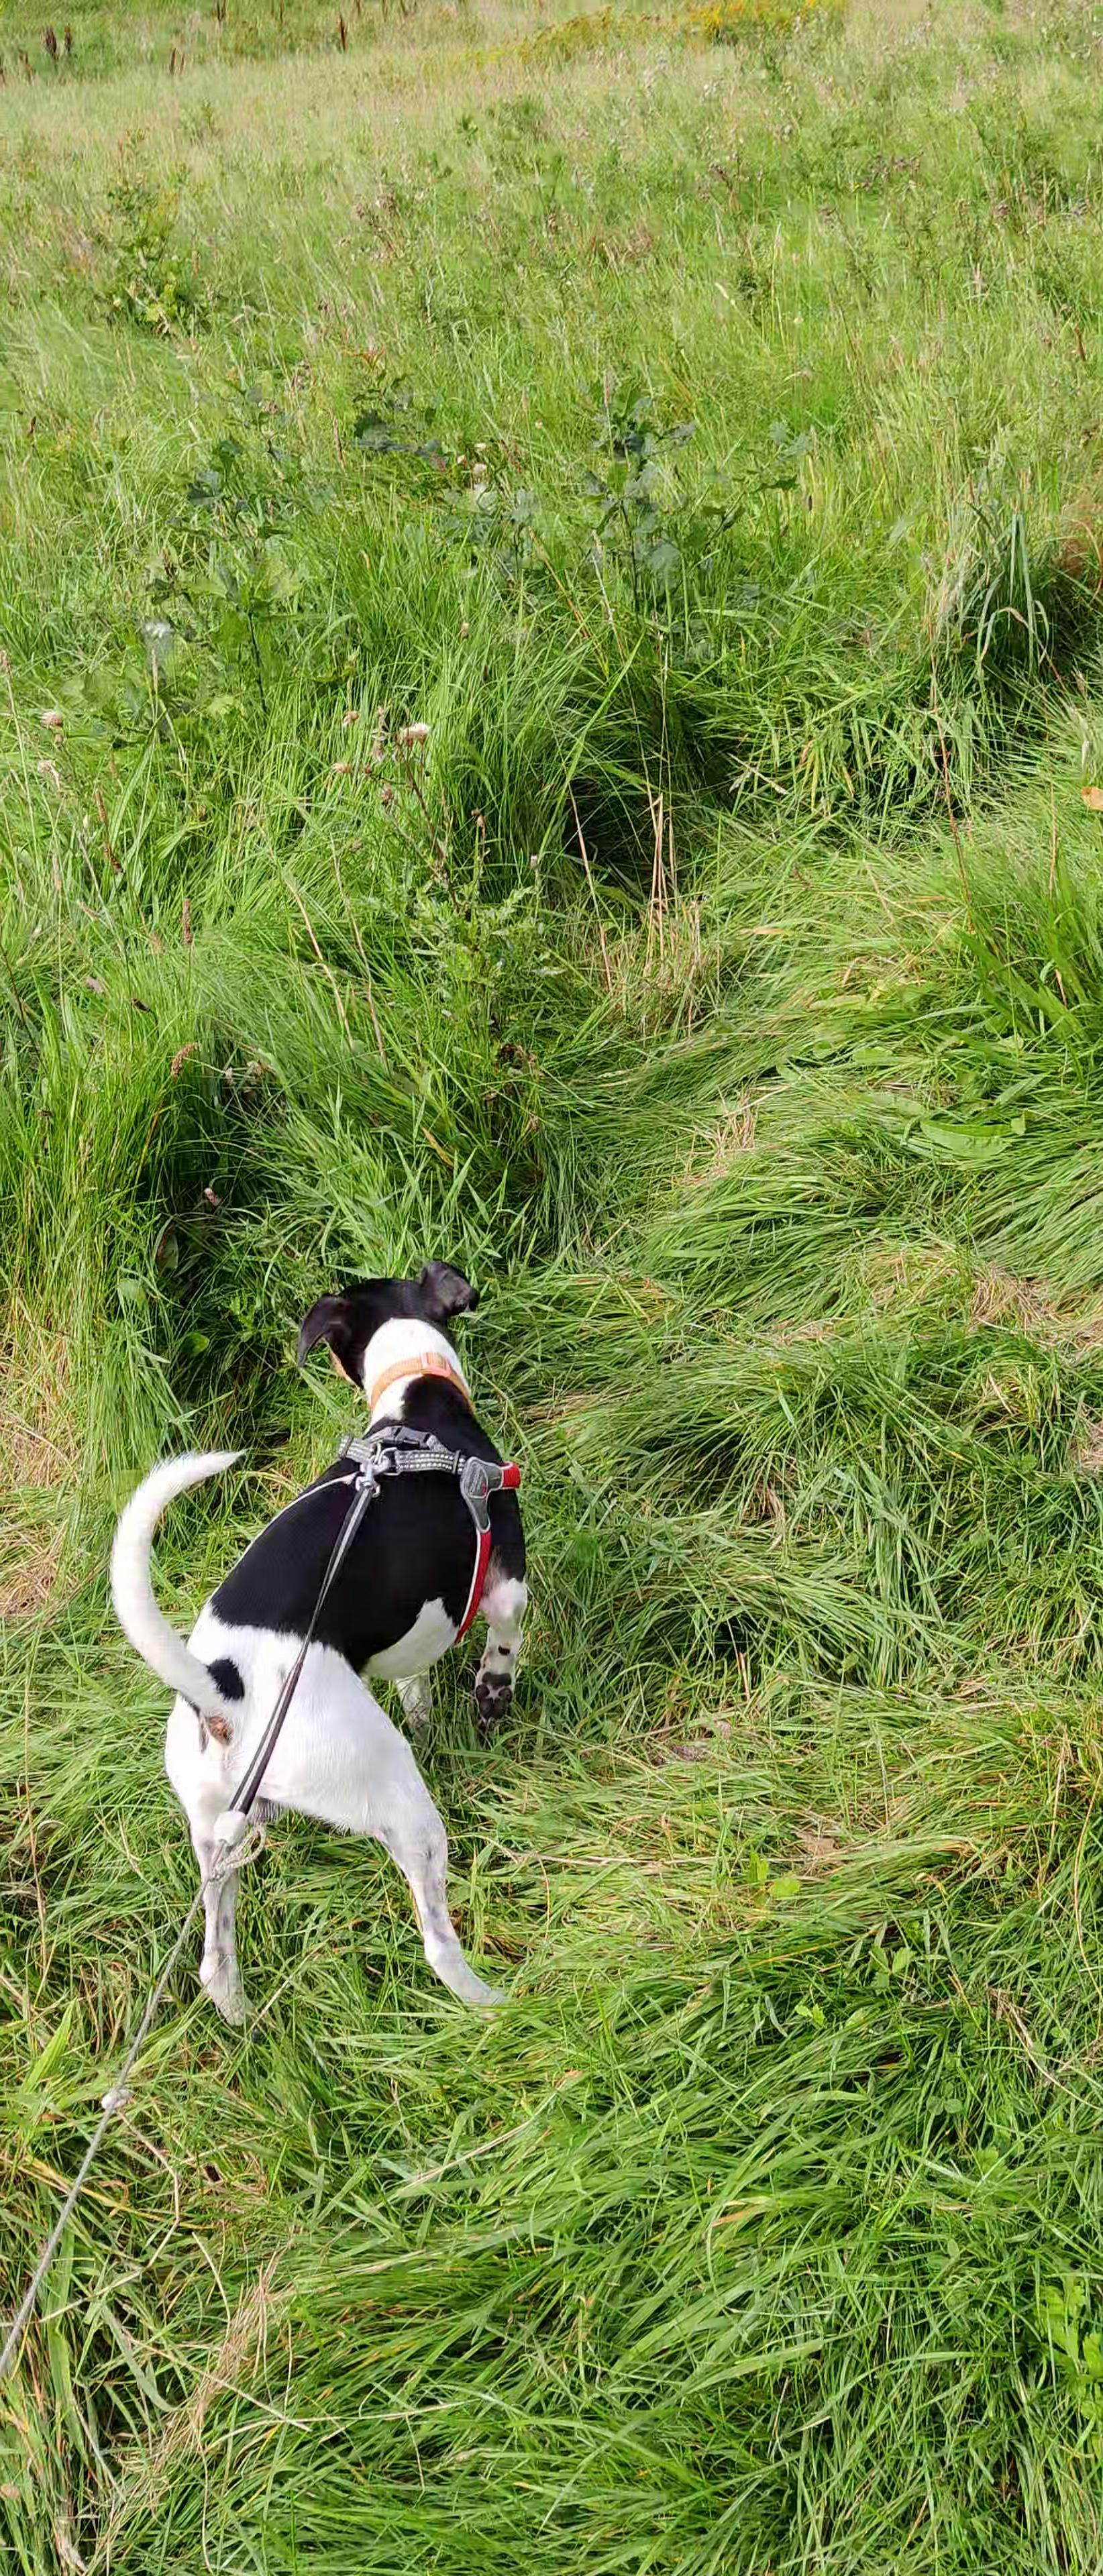Dog: (71, 1221, 580, 2050)
